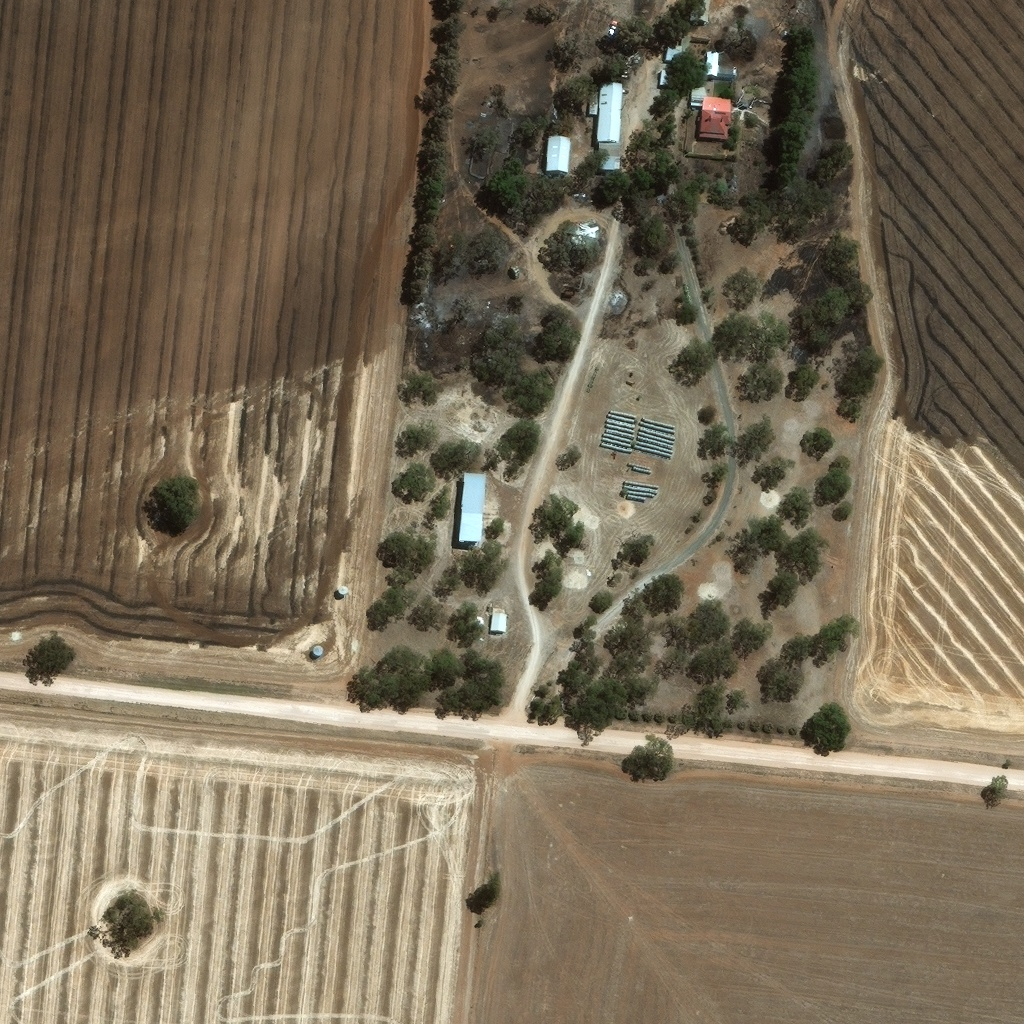0 no-damage: (691, 84, 735, 138), (589, 81, 623, 142), (459, 473, 487, 544), (547, 137, 572, 173), (570, 222, 603, 242), (597, 141, 620, 169), (491, 603, 508, 630), (692, 0, 711, 20), (707, 50, 720, 75), (667, 44, 684, 58), (661, 67, 672, 84), (719, 65, 738, 73), (477, 611, 486, 621)
4 un-classified: (624, 49, 638, 61)
